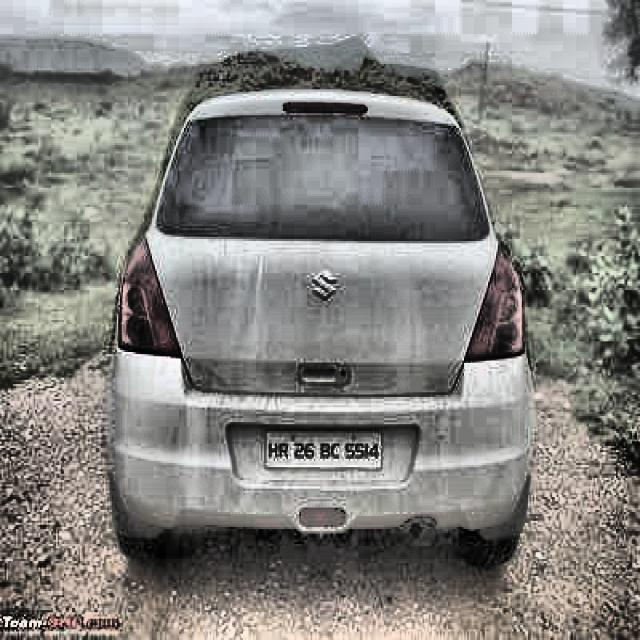license_plate: (262, 424, 384, 472)
